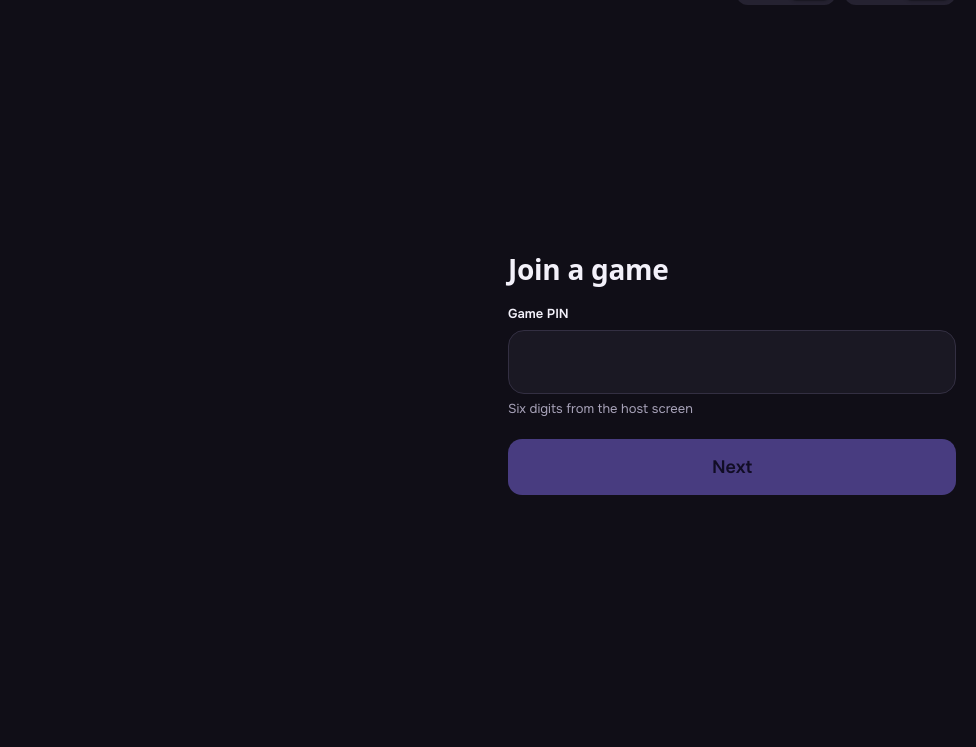
Test case: play join › lookup GAME_NOT_FOUND keeps pin screen with error and digits
The image size is (976, 747).
Type "482931" into the field labelled "Game PIN".
click(732, 362); type("482931")  # box [508,330,956,394]
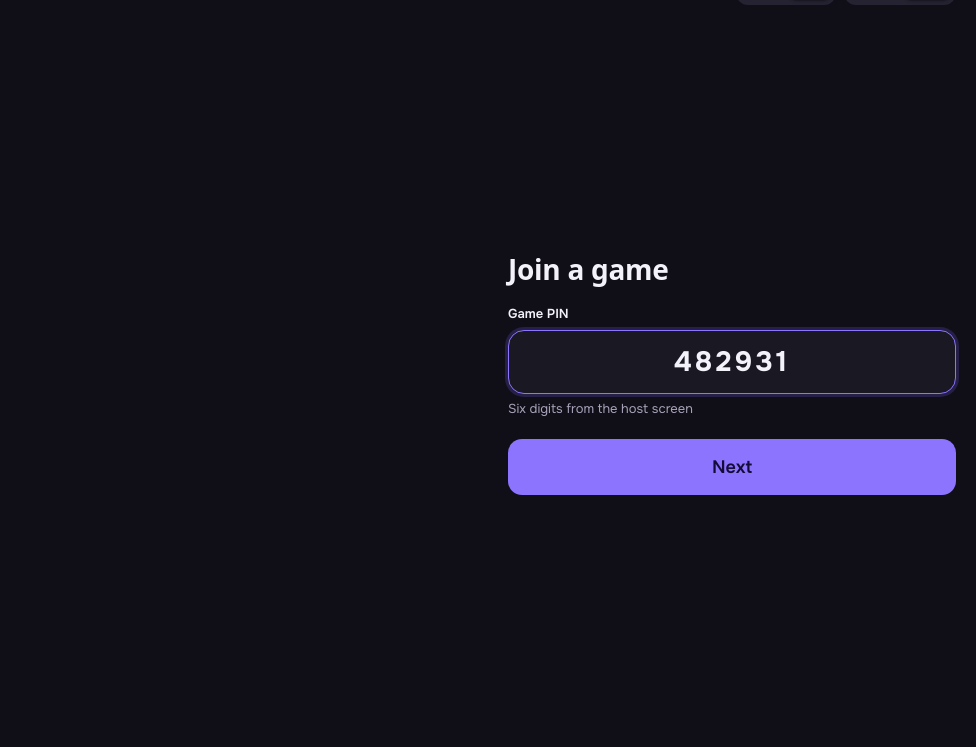
Click the button "Next".
click(732, 467)  # box [508,439,956,495]
(page scrolled)
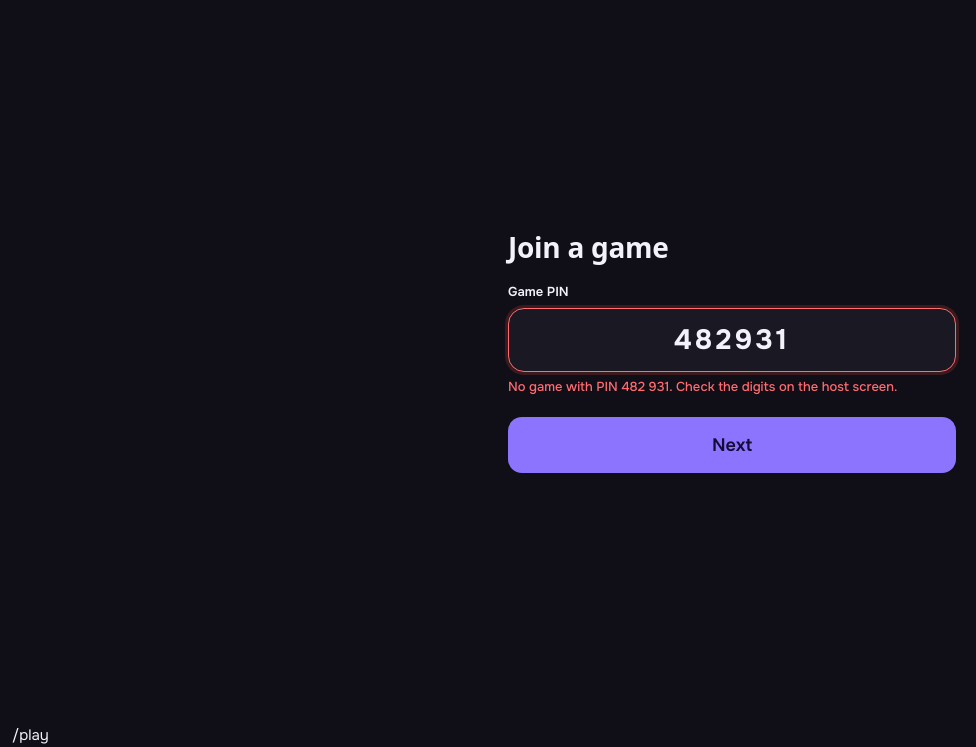
Expected: the text with test id "where" reads "/play", [12,725,49,745]
Result: the text "No game with PIN 482 931. Check the digits on the host screen." is shown at [508,378,956,397]
